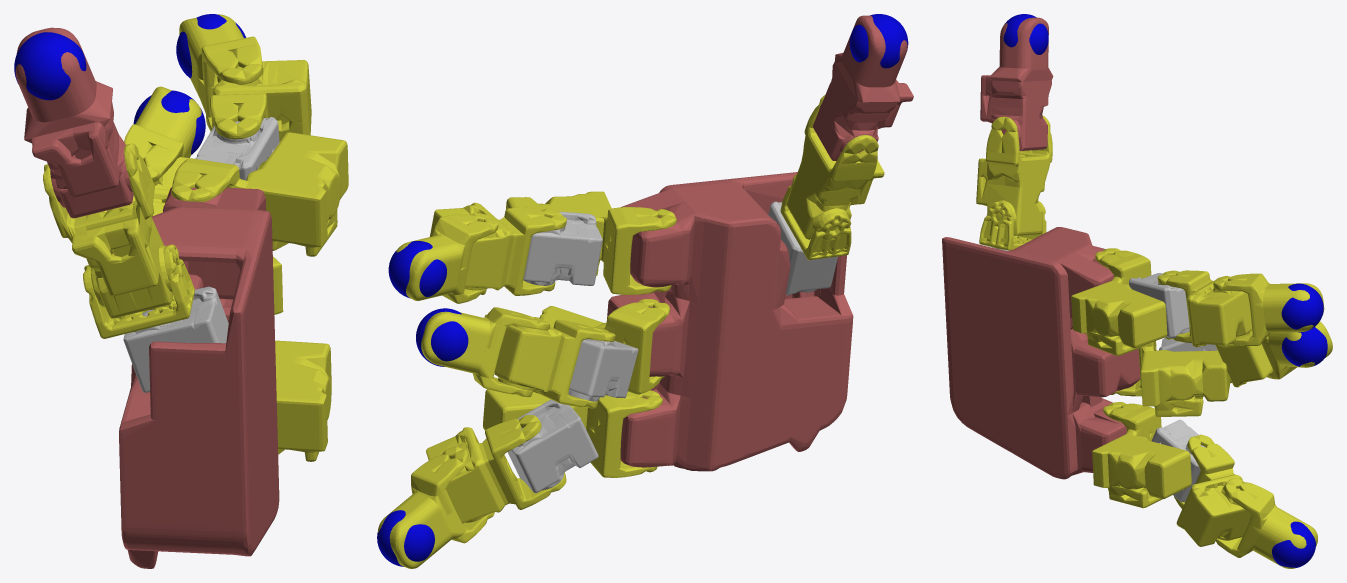
File: hand.glb
The picture shows the model from 3 angles, left to right: view 1: azimuth 30°, elevation 25°; view 2: azimuth 150°, elevation 25°; view 3: azimuth 270°, elevation 25°; orthographic projection. The views are drawn at different scales.
Parts seen in each view (by area): view 1: world; view 2: world; view 3: world.
Part boxes in pixels (x1,y1,x2,y2): world: [14, 14, 348, 568]; world: [377, 14, 913, 568]; world: [942, 14, 1332, 568].
Bounding box in the file's own units: 0.193 × 0.2558 × 0.2142.
